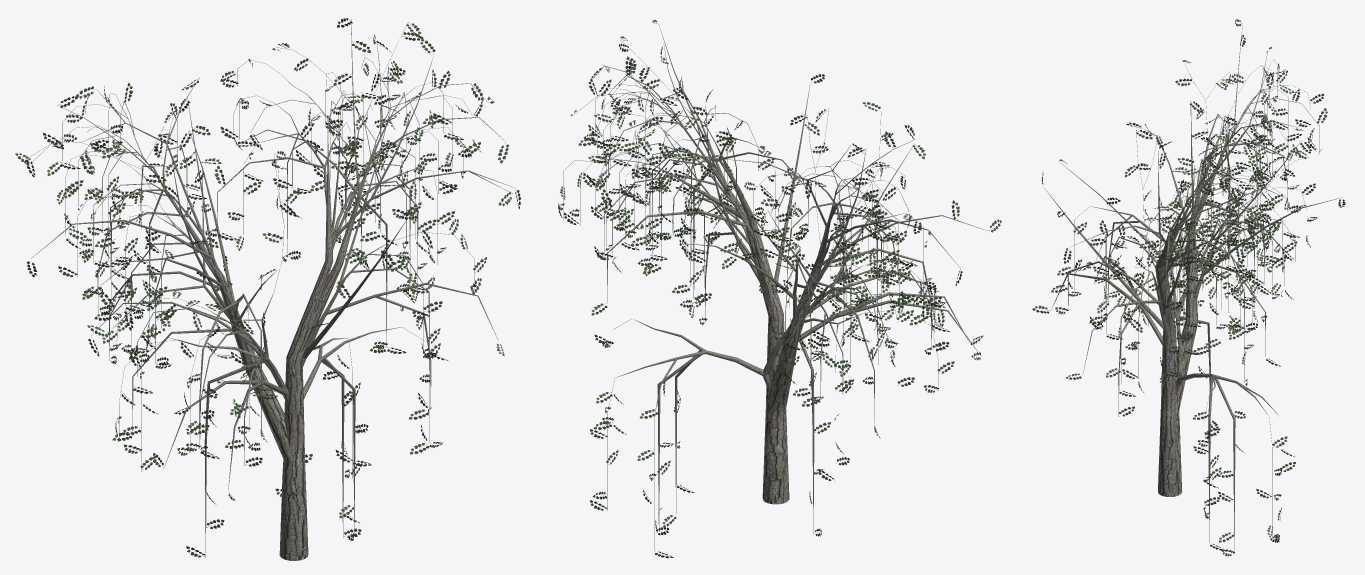
The model's file is willow_baked.glb.
The picture shows the model from 3 angles, left to right: view 1: azimuth 30°, elevation 25°; view 2: azimuth 150°, elevation 25°; view 3: azimuth 270°, elevation 25°; orthographic projection. The views are drawn at different scales.
Parts seen in each view (by area): view 1: vegetation_node0, vegetation_node1; view 2: vegetation_node0, vegetation_node1; view 3: vegetation_node0, vegetation_node1.
Part boxes in pixels (bbox=[...]): vegetation_node0: bbox=[30, 19, 514, 560]; vegetation_node1: bbox=[15, 18, 520, 557]; vegetation_node0: bbox=[563, 25, 987, 550]; vegetation_node1: bbox=[558, 20, 1001, 558]; vegetation_node0: bbox=[1044, 23, 1341, 553]; vegetation_node1: bbox=[1032, 19, 1345, 556].
Bounding box in the file's own units: 6.35 × 7.23 × 4.74.
2 materials, 2 textured.
